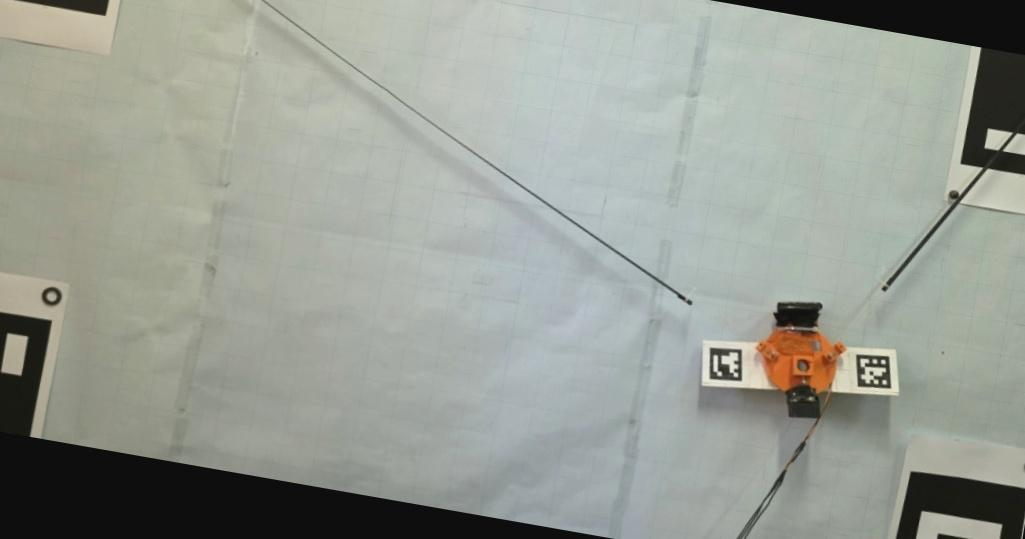robot: (755, 300, 846, 418)
